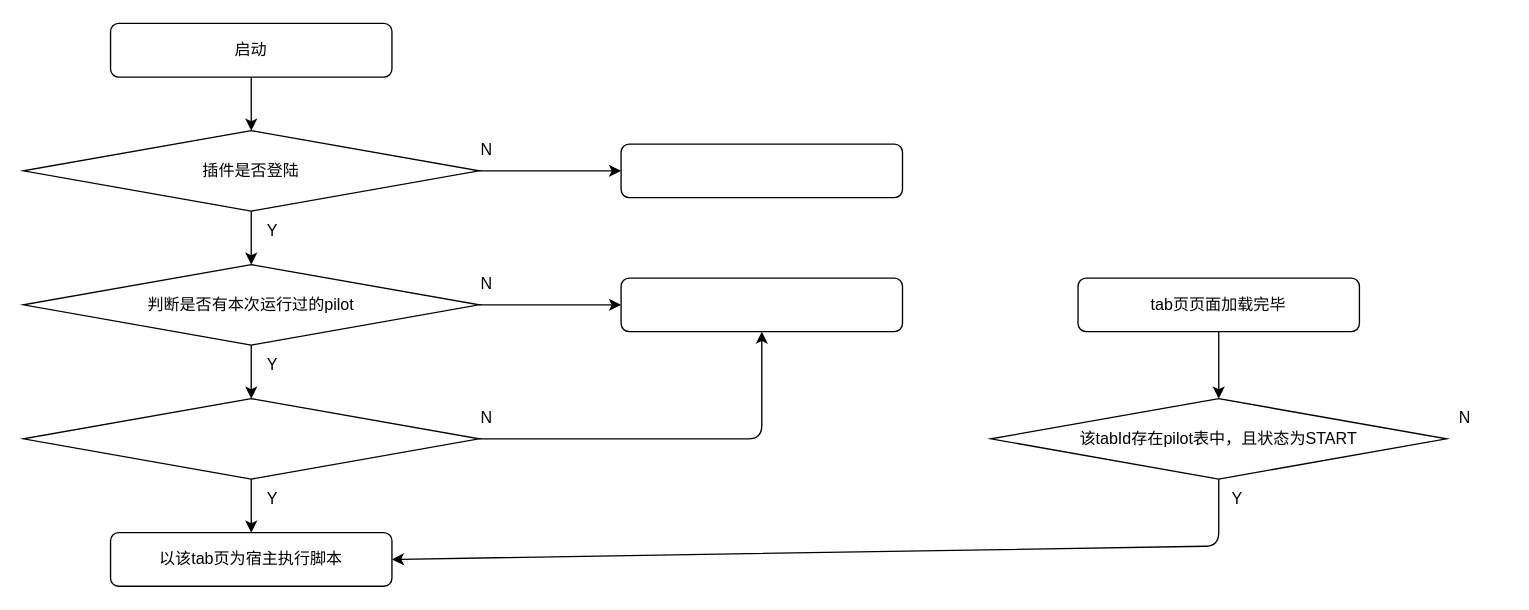
Image size: 1529x610. Some labels were removed from this diagram. The centre of each missing label's shape, as x and y in pixels:
"广播未登陆" goes at point 761,170.
"打开一个tab" goes at point 761,304.
"该pilot绑定的tabId是否存在" goes at point 250,438.
